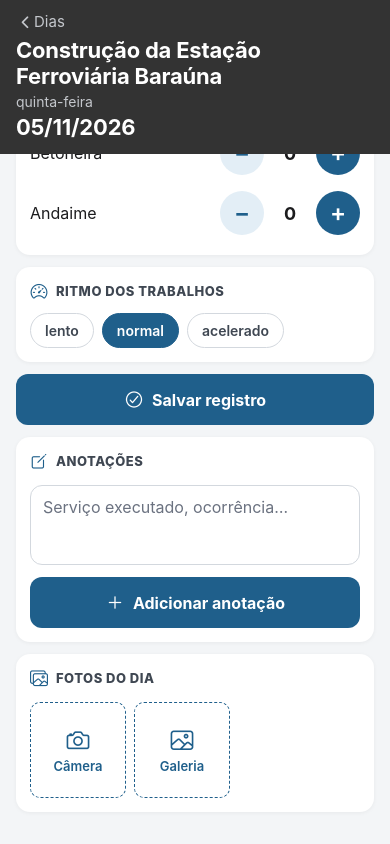
it: Fotos do dia › remove a própria foto
(page scrolled)
Step 1. Click the element with test id "tirar-foto" → (78, 750), box [30,702,126,798]
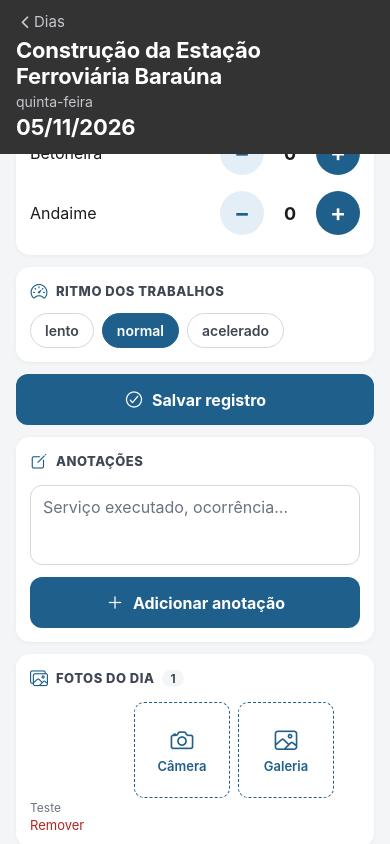
expect the number of elements with test id "foto-item" is 1: met, box [30,800,84,833]
Step 2. Click the element with test id "remover-foto" → (57, 825), box [30,817,84,833]
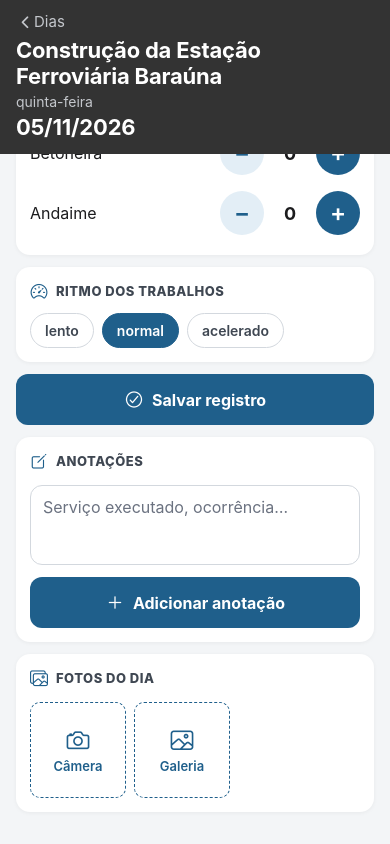
expect no elements with test id "foto-item" are shown: met
